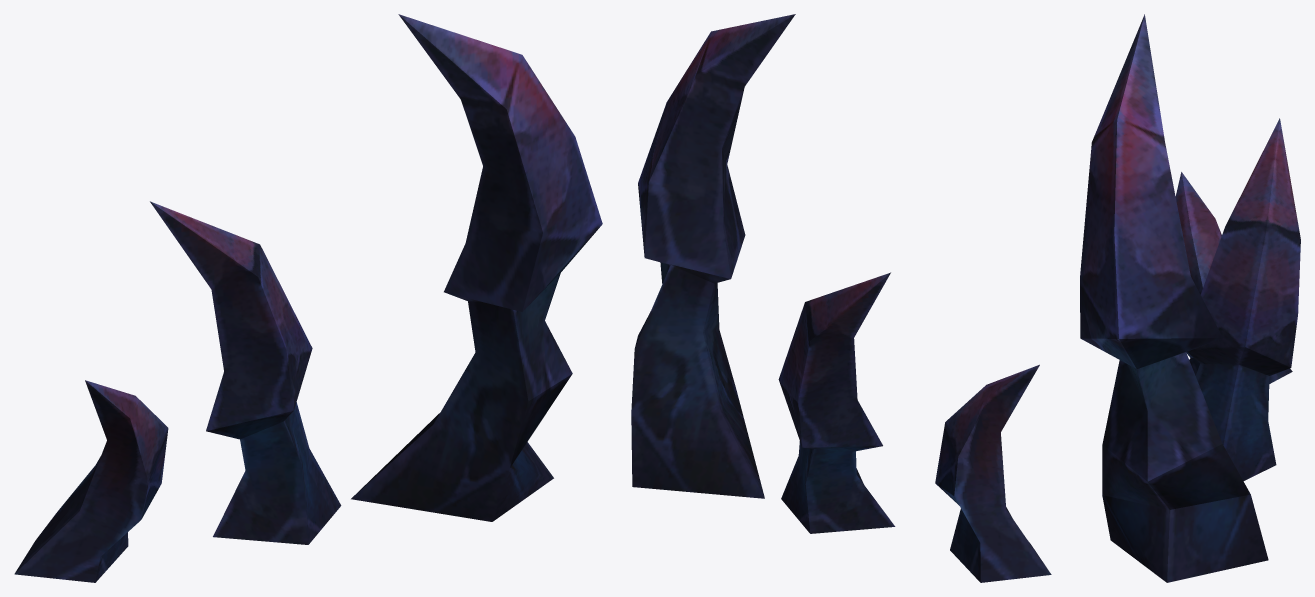
File: palace_floorspikes_01.fbx
The picture shows the model from 3 angles, left to right: view 1: azimuth 30°, elevation 25°; view 2: azimuth 150°, elevation 25°; view 3: azimuth 270°, elevation 25°; orthographic projection. The views are drawn at different scales.
Parts seen in each view (by area): view 1: palace_floorspikes_01; view 2: palace_floorspikes_01; view 3: palace_floorspikes_01.
Boxes of the visible parts, x1=… form: palace_floorspikes_01: x1=14, y1=14, x2=602, y2=582; palace_floorspikes_01: x1=631, y1=14, x2=1051, y2=582; palace_floorspikes_01: x1=1080, y1=14, x2=1300, y2=582.
Bounding box in the file's own units: 2.51 × 2.33 × 0.9527.
